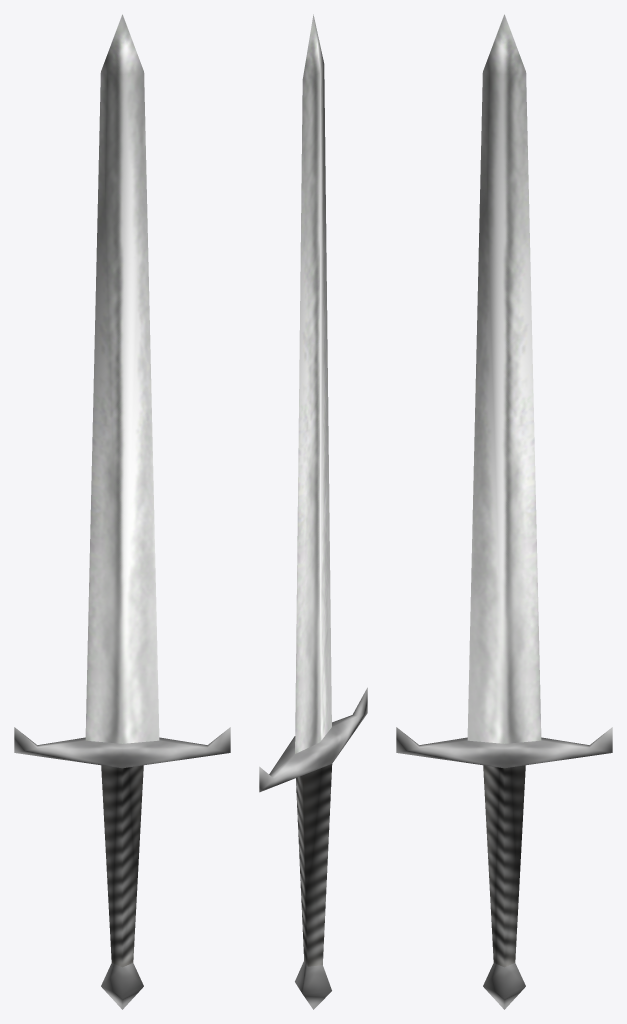
File: MedievalOneHandSword.fbx
3 views of the same model, side by side, from view 1: azimuth 90°, elevation 25°; view 2: azimuth 150°, elevation 25°; view 3: azimuth 270°, elevation 25° (orthographic).
Visible parts, largest first — view 1: MedievalOneHandSword; view 2: MedievalOneHandSword; view 3: MedievalOneHandSword.
Boxes of the visible parts, bbox=[...] form: MedievalOneHandSword: bbox=[14, 14, 230, 1009]; MedievalOneHandSword: bbox=[259, 14, 367, 1009]; MedievalOneHandSword: bbox=[396, 14, 612, 1009].
Size of the model in its own units: 0.0424 by 1.08 by 0.2121.
